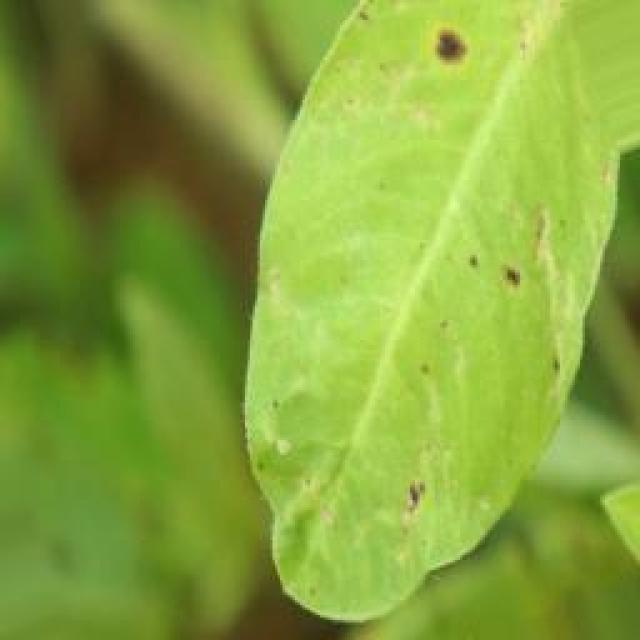Sigatoka: (485, 165, 559, 288), (392, 9, 486, 84), (391, 437, 441, 525)
